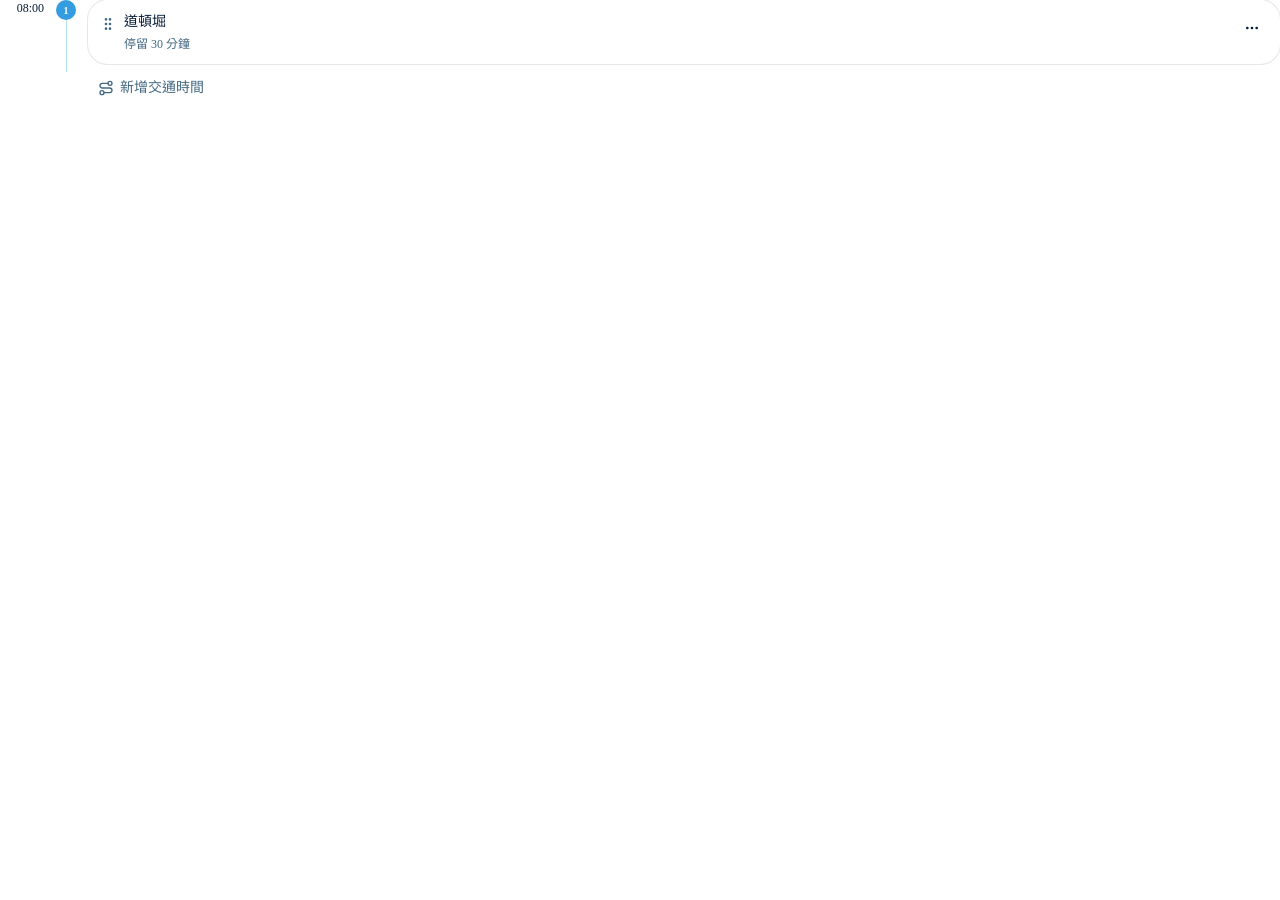
Scenario: ActivityList 時間軸呈現 › 點擊有備註的行程會開啟彈窗顯示行程名稱與備註連結
Expected: the text "推薦晚上去" is not shown
Click the button "道頓堀 停留 30 分鐘": [145, 22] box [88,0,1279,64]
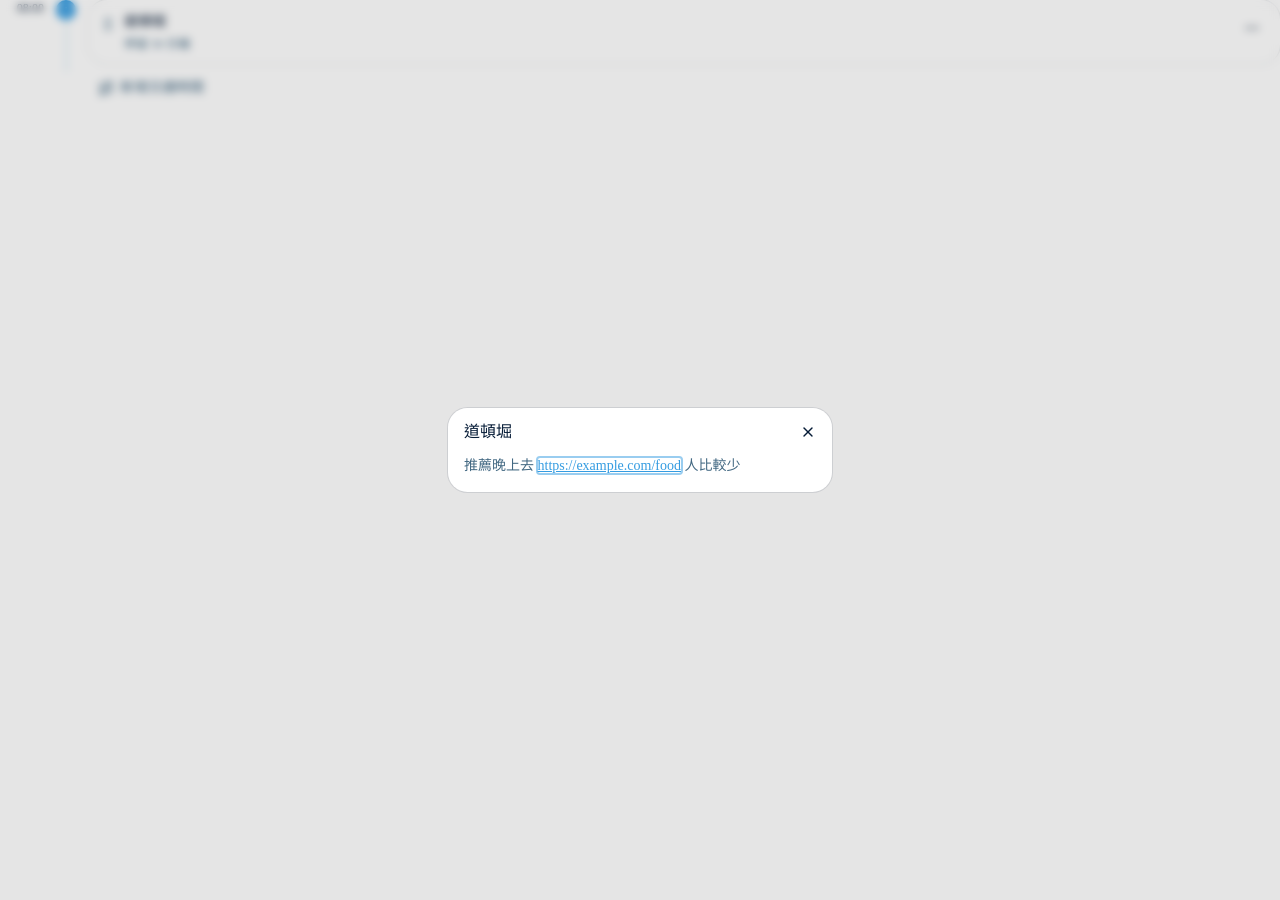
Expected: the heading "道頓堀" is shown, [464,423,512,440]
Expected: the text "推薦晚上去 https://example.com/food 人比較少" is shown, [464,458,740,473]
